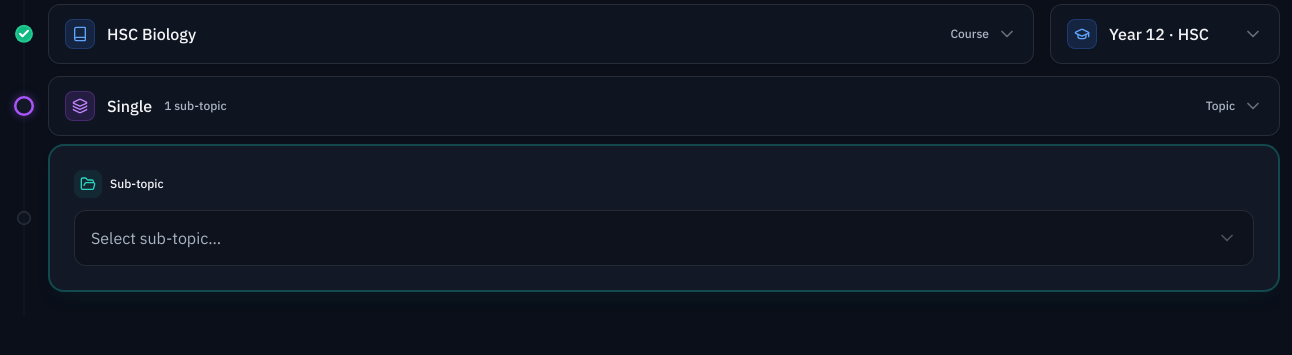
the sub-topic question count › uses the singular for exactly one question
Step 1. Click the button "Select sub-topic…" → (156, 238), box [74,210,1254,266]
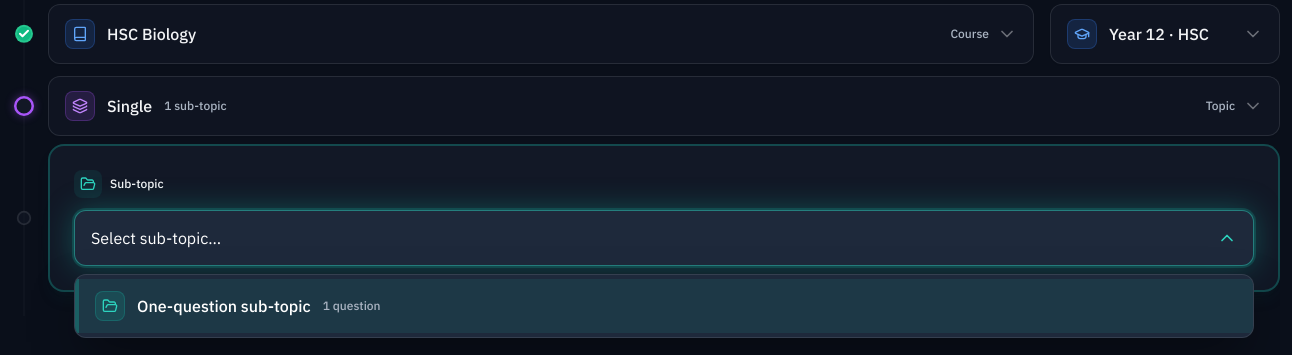
Expected: the text "1 question" is shown, [323,298,381,314]
